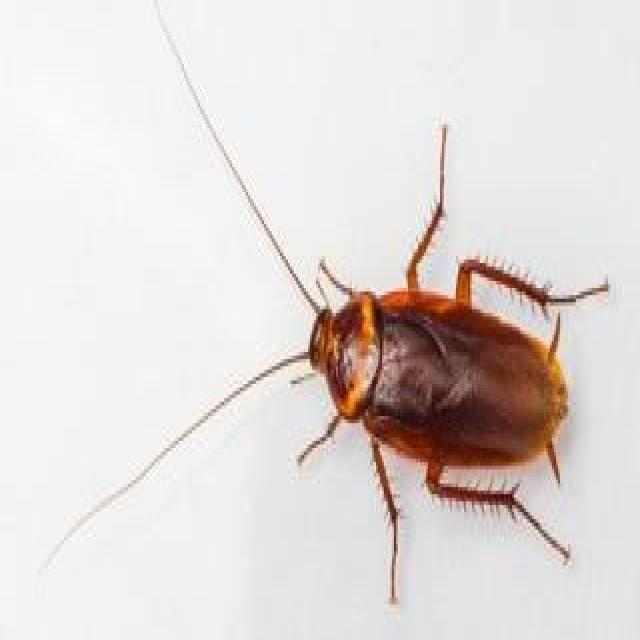Cockroach: (186, 149, 618, 587)
